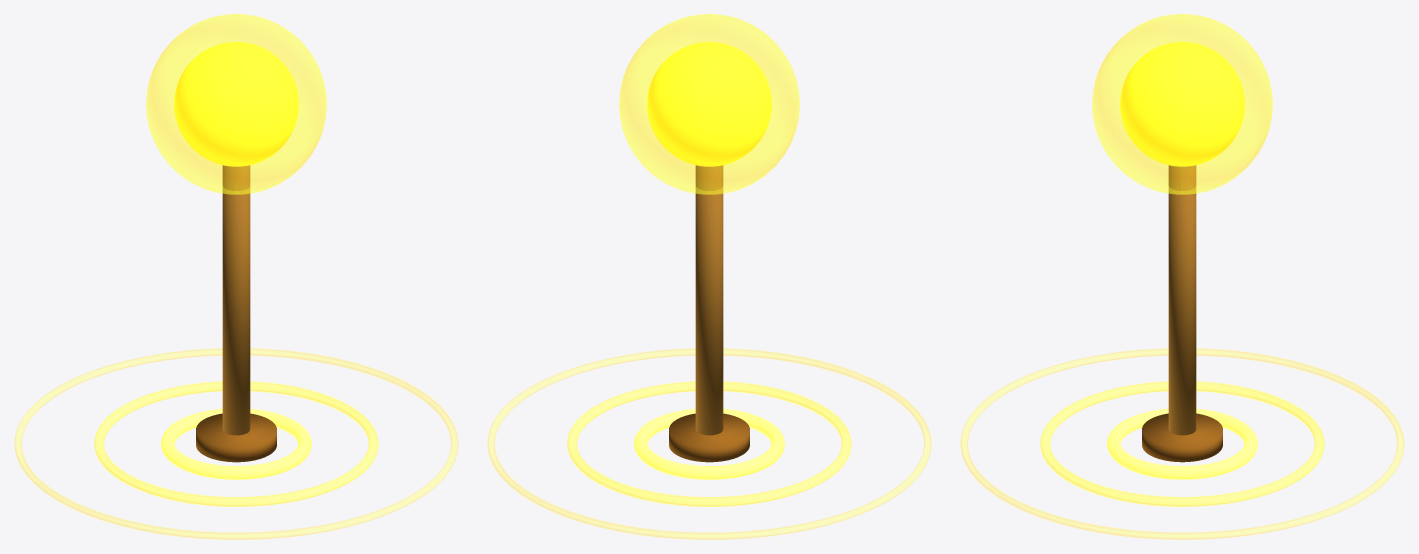
The model's file is map-pin-orange.glb.
3 views of the same model, side by side, from view 1: azimuth 30°, elevation 25°; view 2: azimuth 150°, elevation 25°; view 3: azimuth 270°, elevation 25° (orthographic).
Visible parts, largest first — view 1: Glow, Cap, Pulse2, Column, Pulse1, Pulse0, Base; view 2: Glow, Cap, Pulse2, Column, Pulse1, Pulse0, Base; view 3: Glow, Cap, Pulse2, Column, Pulse1, Pulse0, Base.
Part boxes in pixels (<box>): Glow: <box>146,14,326,194</box>; Cap: <box>174,42,298,166</box>; Pulse2: <box>14,348,458,539</box>; Column: <box>222,165,250,435</box>; Pulse1: <box>94,381,378,506</box>; Pulse0: <box>161,408,311,479</box>; Base: <box>196,413,276,462</box>; Glow: <box>619,14,799,194</box>; Cap: <box>647,42,771,166</box>; Pulse2: <box>487,348,931,539</box>; Column: <box>695,165,723,435</box>; Pulse1: <box>567,381,851,506</box>; Pulse0: <box>634,408,784,479</box>; Base: <box>669,413,749,462</box>; Glow: <box>1092,14,1272,194</box>; Cap: <box>1120,42,1244,166</box>; Pulse2: <box>960,348,1404,539</box>; Column: <box>1168,165,1196,435</box>; Pulse1: <box>1040,381,1324,506</box>; Pulse0: <box>1107,408,1257,479</box>; Base: <box>1142,413,1222,462</box>.
Bounding box in the file's own units: 1.42 × 1.51 × 1.42.
